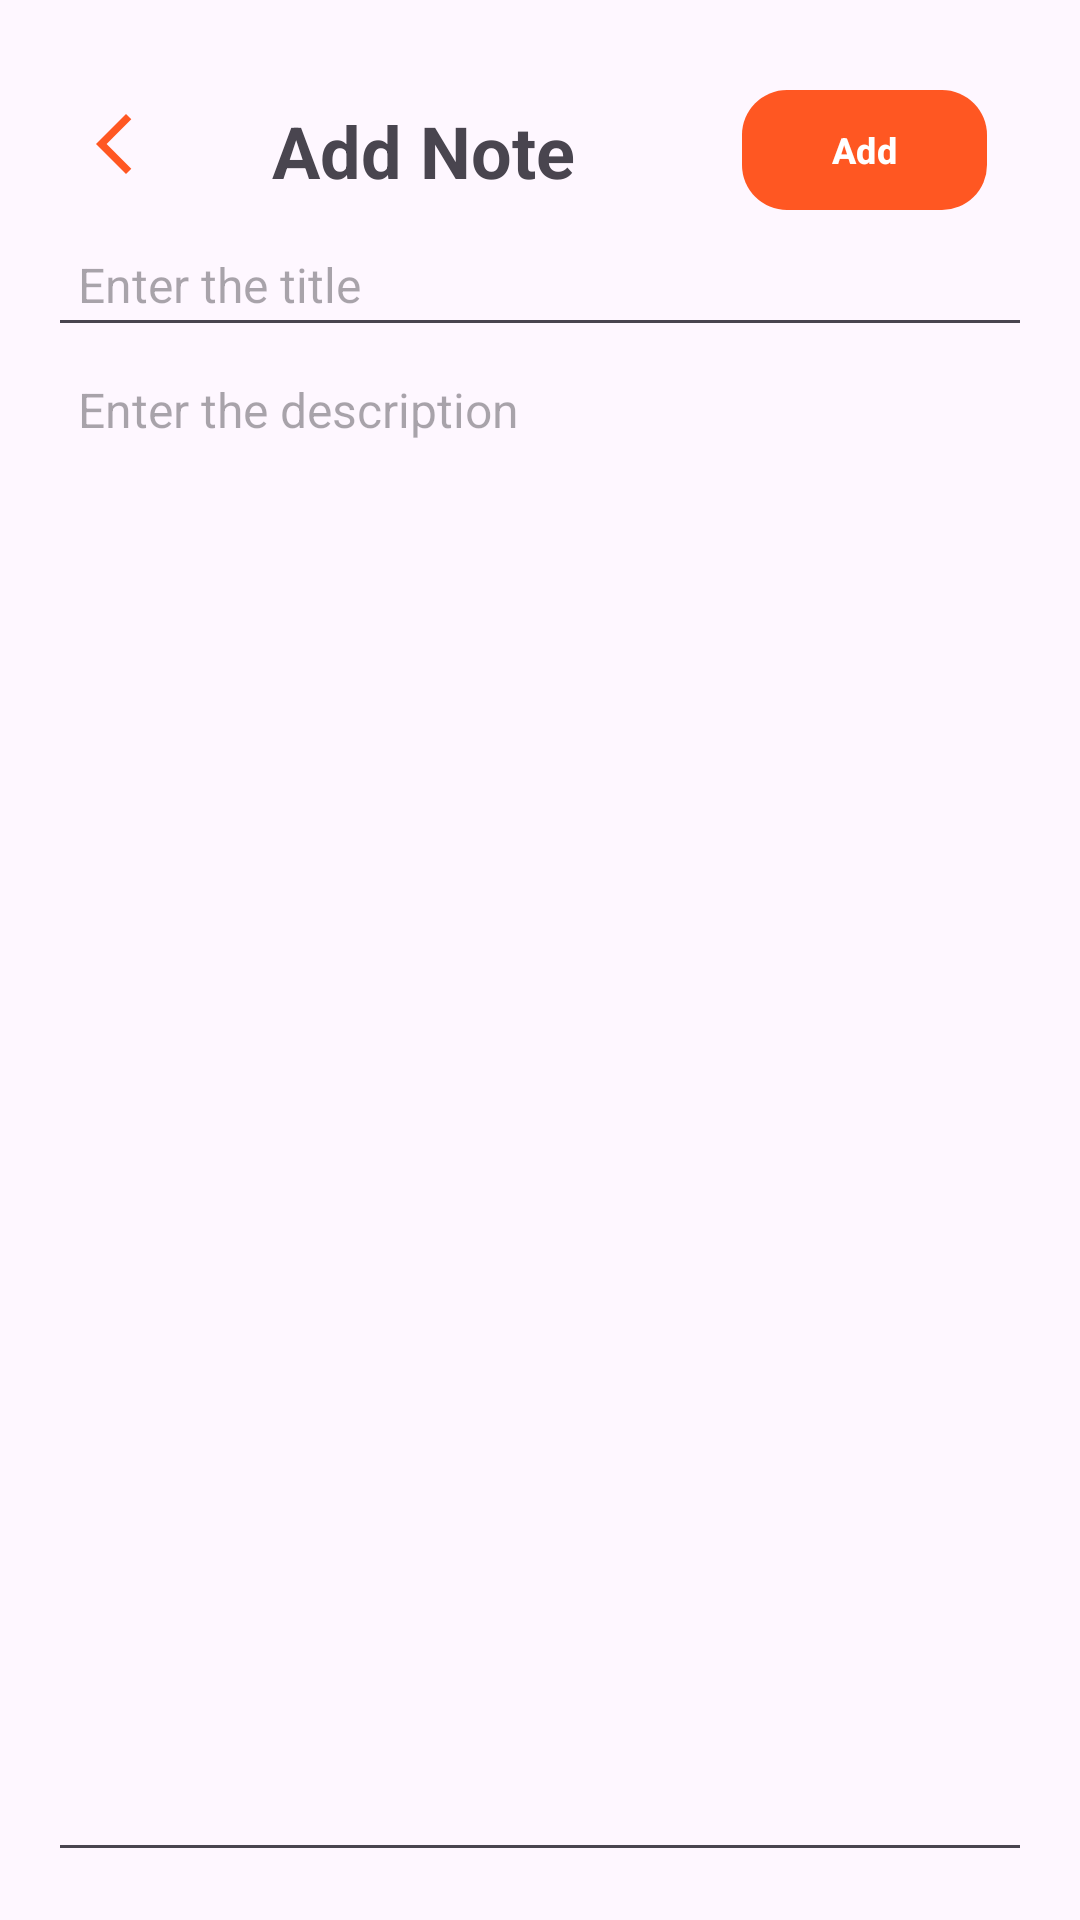

Screen size 1080×1920. Icon name, then its center in pixels as (x=x, y=y):
back: (x=113, y=144)
